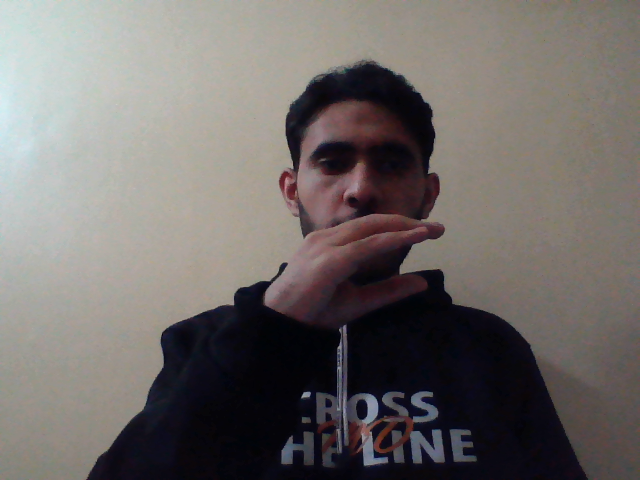C: (259, 209, 439, 339)
